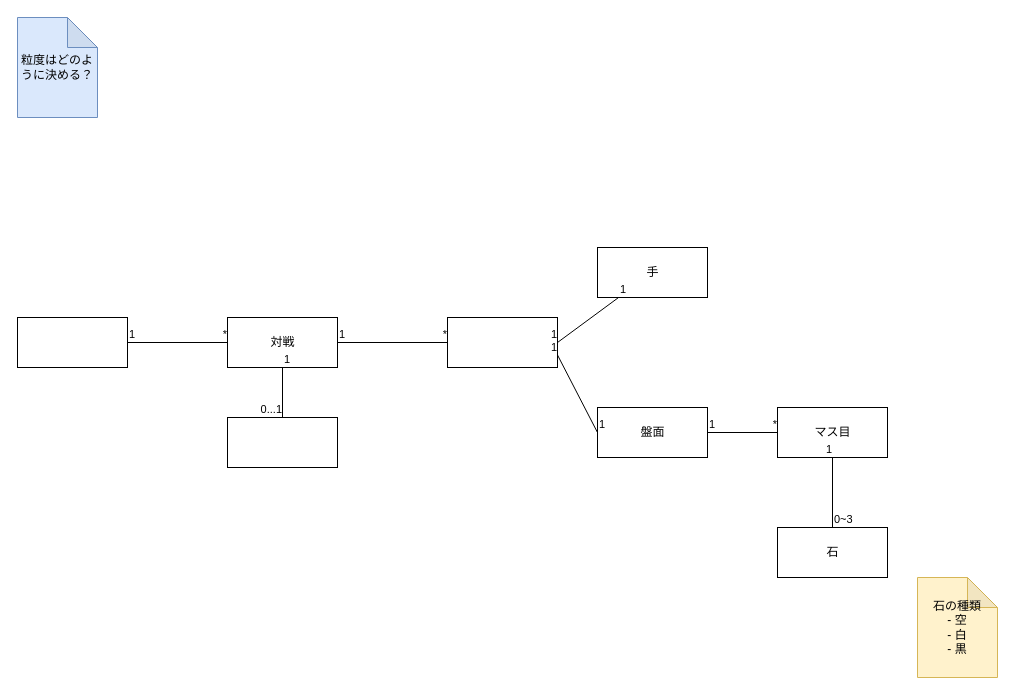
This 1015x695 diagram has some shape labels left out. The centre of each missing label's shape, as x and y in pixels:
"ターン" belongs at point (502, 342).
"プレイヤー" belongs at point (72, 342).
"対戦結果" belongs at point (282, 442).
